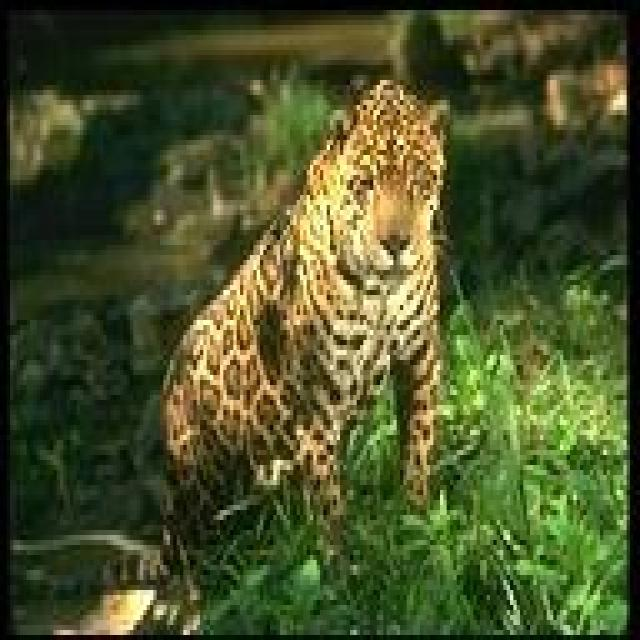Leopard: (157, 70, 456, 579)
